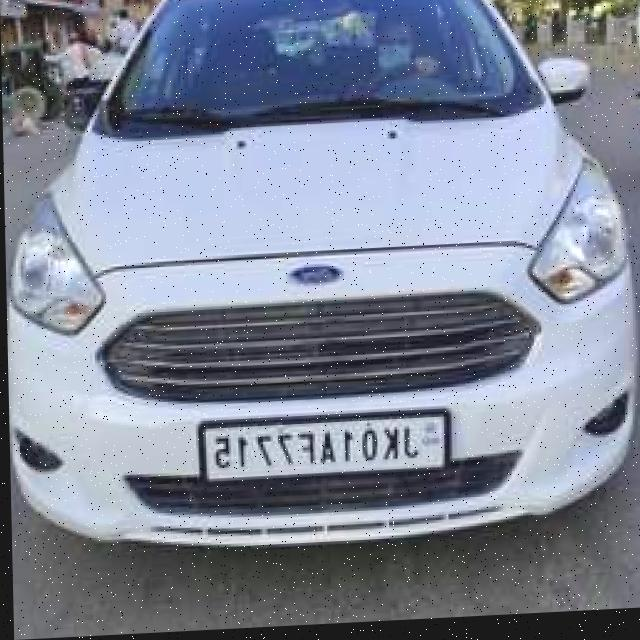plate: (196, 410, 450, 484)
